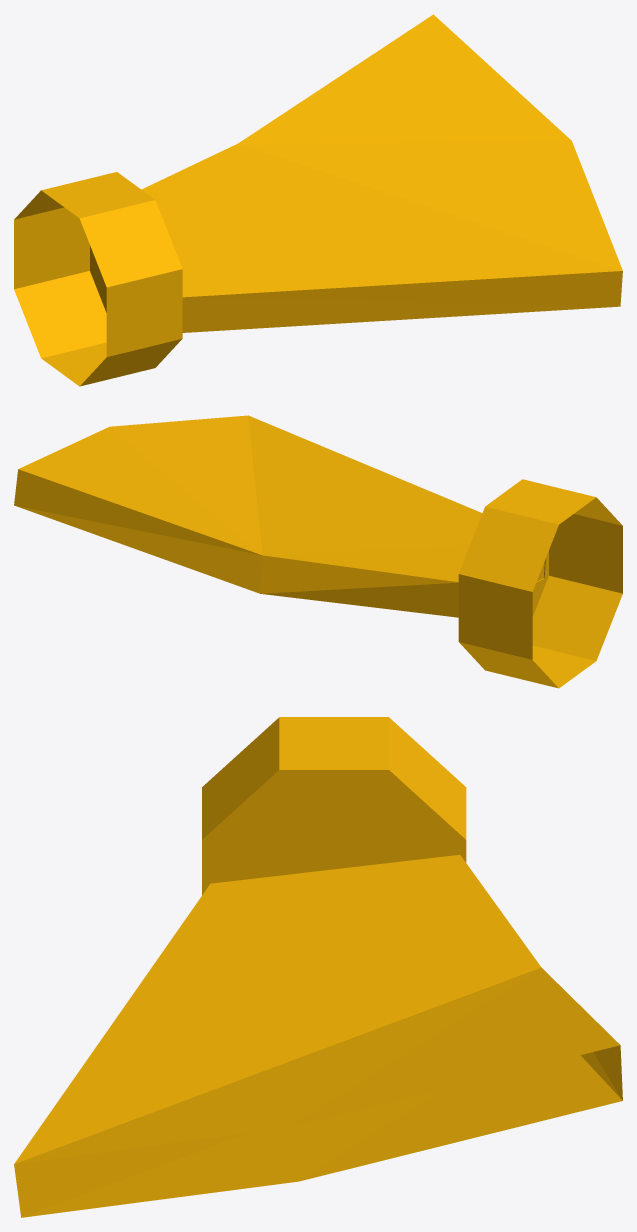
Rendered from epe_thruster_small_blade.dae.
The picture shows the model from 3 angles, top to bottom: view 1: azimuth 30°, elevation 25°; view 2: azimuth 150°, elevation 25°; view 3: azimuth 270°, elevation 25°; orthographic projection. The views are drawn at different scales.
Parts seen in each view (by area): view 1: thruster_small_blade; view 2: thruster_small_blade; view 3: thruster_small_blade.
Boxes of the visible parts, bbox=[...] form: thruster_small_blade: bbox=[14, 14, 622, 386]; thruster_small_blade: bbox=[14, 415, 622, 688]; thruster_small_blade: bbox=[14, 717, 622, 1217].
Bounding box in the file's own units: 0.104 × 0.0774 × 0.0338.
